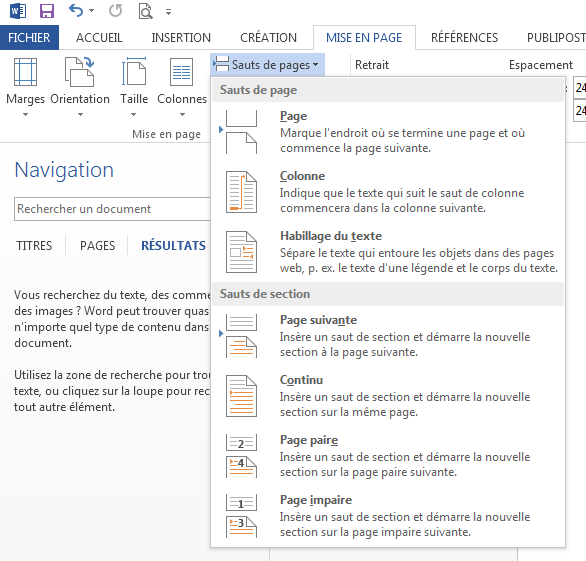texte: (246, 132, 340, 154), (16, 161, 113, 182), (213, 56, 318, 72), (241, 26, 296, 50), (220, 85, 297, 97), (65, 57, 94, 86), (432, 30, 498, 42), (142, 238, 205, 250), (510, 60, 573, 72), (15, 322, 66, 334), (281, 231, 331, 243), (122, 62, 146, 85), (18, 204, 76, 213), (310, 315, 357, 326), (44, 290, 100, 299), (310, 495, 352, 507), (96, 204, 151, 213), (280, 171, 325, 182), (412, 263, 453, 275), (15, 338, 69, 347), (281, 128, 321, 140), (280, 188, 320, 200), (381, 527, 421, 539), (111, 370, 162, 379), (63, 386, 99, 398), (384, 143, 431, 152), (439, 203, 486, 212), (371, 347, 418, 356), (410, 467, 457, 476), (424, 527, 471, 536), (280, 206, 350, 212), (280, 248, 315, 260), (528, 33, 573, 42), (426, 332, 470, 341), (486, 332, 530, 341), (426, 392, 470, 401), (486, 392, 530, 401), (426, 452, 470, 461), (486, 452, 530, 461), (426, 512, 470, 521), (486, 512, 530, 521), (325, 128, 368, 137), (481, 188, 524, 197), (393, 203, 436, 212), (280, 375, 323, 384), (439, 248, 471, 260), (70, 402, 112, 411), (327, 33, 369, 42), (402, 128, 443, 137), (270, 289, 310, 298), (134, 386, 163, 398), (372, 332, 410, 341), (280, 347, 318, 356), (372, 392, 410, 401), (280, 407, 318, 416), (372, 452, 410, 461), (280, 467, 318, 476), (372, 512, 410, 521), (280, 527, 318, 536), (138, 323, 180, 331), (310, 435, 338, 447), (36, 309, 73, 318), (378, 249, 419, 257), (16, 241, 52, 250), (15, 370, 51, 379), (280, 111, 307, 123), (280, 315, 307, 327), (280, 435, 307, 447), (280, 495, 307, 507), (351, 232, 382, 242), (81, 241, 115, 250), (382, 467, 407, 479), (356, 60, 389, 69), (353, 407, 386, 416), (144, 307, 181, 315), (280, 332, 311, 341), (280, 392, 311, 401), (280, 452, 311, 461), (280, 512, 311, 521), (120, 291, 147, 301), (14, 387, 41, 397), (524, 251, 554, 260), (378, 263, 408, 272), (220, 289, 250, 298), (280, 263, 304, 274), (481, 266, 510, 275), (95, 323, 118, 334), (84, 306, 112, 315), (70, 322, 91, 334), (374, 33, 402, 42), (321, 407, 349, 416), (390, 410, 418, 419), (118, 307, 140, 318), (14, 290, 40, 299), (470, 131, 495, 140), (356, 146, 381, 155), (353, 203, 378, 212), (474, 248, 499, 257), (343, 350, 368, 359), (353, 470, 378, 479), (353, 530, 378, 539), (530, 264, 558, 272), (173, 293, 210, 299), (185, 309, 209, 318), (185, 322, 209, 331), (167, 389, 191, 398), (40, 403, 66, 411), (386, 188, 403, 200), (358, 248, 375, 260), (358, 189, 383, 197), (330, 249, 355, 257), (350, 264, 375, 272), (167, 373, 189, 382), (176, 132, 200, 140), (323, 191, 343, 200), (133, 130, 155, 138), (14, 403, 36, 411), (440, 189, 462, 197), (331, 333, 353, 341), (331, 393, 353, 401), (331, 453, 353, 461), (331, 513, 353, 521), (406, 188, 425, 197), (502, 248, 520, 257), (152, 290, 169, 299), (15, 306, 32, 315), (66, 373, 91, 379), (193, 371, 210, 379), (371, 128, 385, 137), (511, 128, 525, 137), (334, 231, 348, 240), (513, 263, 527, 272), (253, 289, 267, 298), (465, 188, 478, 197), (423, 248, 436, 257), (356, 332, 369, 341), (356, 392, 369, 401), (356, 452, 369, 461), (356, 512, 369, 521), (447, 131, 466, 137), (104, 290, 116, 299), (122, 322, 134, 331), (95, 370, 107, 379), (575, 33, 586, 42), (321, 470, 337, 476), (321, 530, 337, 536), (103, 389, 118, 395), (195, 389, 210, 395), (576, 83, 586, 92), (576, 106, 586, 115), (321, 266, 335, 272), (309, 266, 318, 275), (498, 129, 508, 137), (456, 264, 466, 272), (413, 333, 423, 341), (413, 393, 423, 401), (413, 453, 423, 461), (413, 513, 423, 521), (315, 335, 328, 341), (315, 395, 328, 401), (315, 455, 328, 461), (315, 515, 328, 521), (80, 207, 92, 213), (46, 389, 58, 395), (344, 143, 352, 152), (347, 188, 355, 197), (429, 188, 437, 197), (382, 203, 390, 212), (319, 248, 327, 257), (339, 263, 347, 272), (470, 263, 478, 272), (474, 332, 482, 341), (331, 347, 339, 356), (474, 392, 482, 401), (474, 452, 482, 461), (341, 467, 349, 476), (474, 512, 482, 521), (341, 527, 349, 536), (160, 132, 171, 138), (388, 131, 399, 137), (55, 370, 62, 379), (122, 386, 129, 395), (321, 347, 327, 356), (219, 126, 223, 133), (219, 330, 223, 337), (78, 306, 81, 312)
